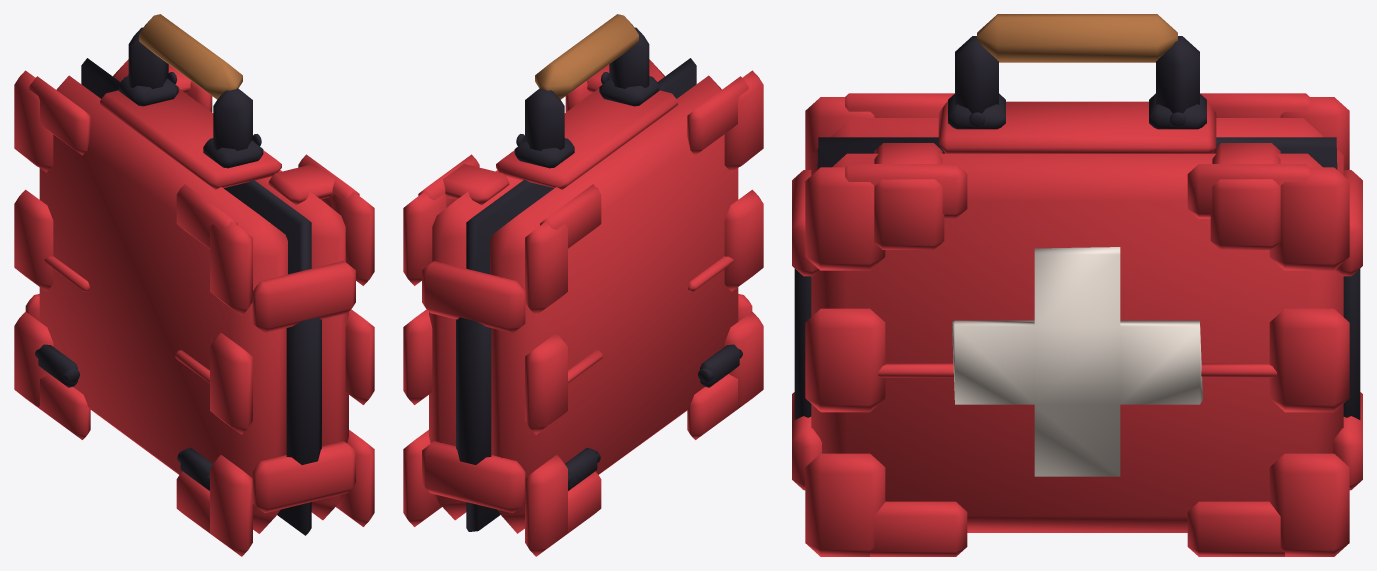
The model's file is pick.medkit.lod1.glb.
3 views of the same model, side by side, from view 1: azimuth 30°, elevation 25°; view 2: azimuth 150°, elevation 25°; view 3: azimuth 270°, elevation 25° (orthographic). The views are drawn at different scales.
Visible parts, largest first — view 1: body, object 2; view 2: body, object 2; view 3: object 2, body.
Part boxes in pixels (left/top/right/bottom): body: left=14, top=58, right=355, bottom=556; object 2: left=113, top=14, right=374, bottom=526; body: left=422, top=58, right=763, bottom=556; object 2: left=403, top=14, right=664, bottom=526; object 2: left=805, top=14, right=1349, bottom=556; body: left=792, top=93, right=1362, bottom=490.
Bounding box in the file's own units: 0.2655 × 0.7305 × 0.75.
